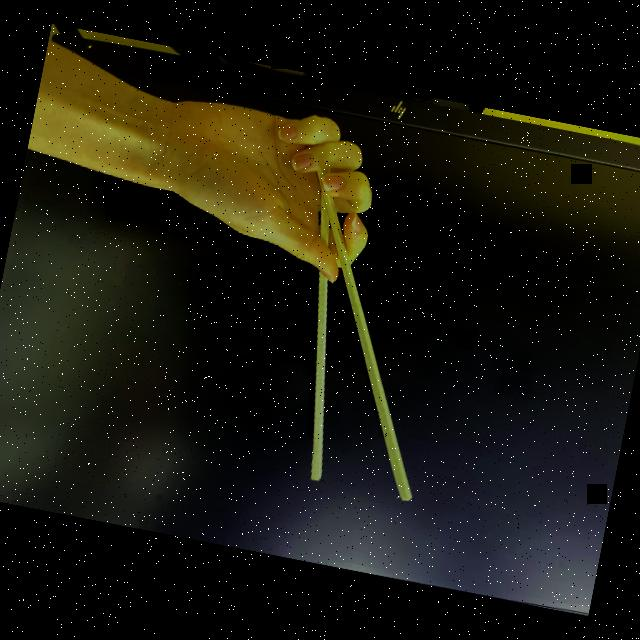stick: (144, 96, 478, 504)
